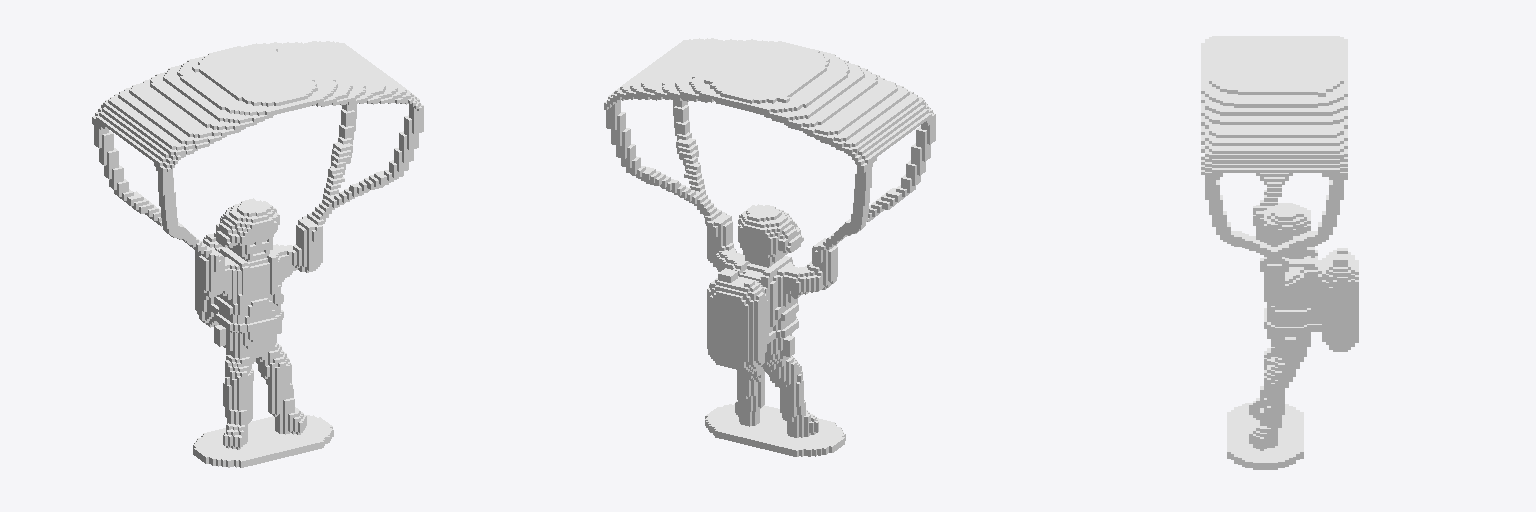
Rendered from parachote_soldier_v3_machinegun.obj.
3 renders of one model, left to right at view 1: azimuth 30°, elevation 25°; view 2: azimuth 150°, elevation 25°; view 3: azimuth 270°, elevation 25°, orthographic.
Parts seen in each view (by area): view 1: object 1; view 2: object 1; view 3: object 1.
Boxes of the visible parts, <box> form: object 1: <box>92,41,423,467</box>; object 1: <box>604,38,935,456</box>; object 1: <box>1201,36,1358,469</box>.
Size of the model in its own units: 8.2 by 11 by 4.3.